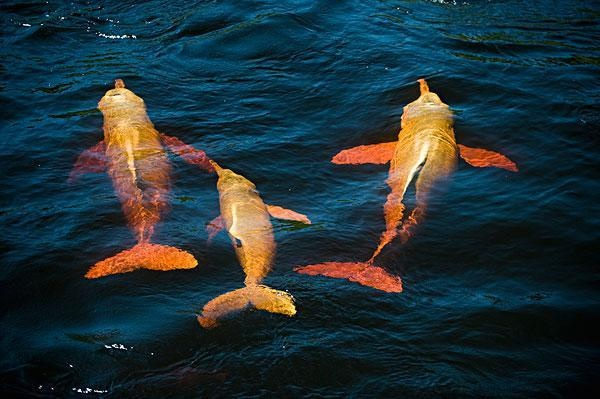fish: (292, 76, 520, 296), (68, 77, 215, 274), (202, 156, 309, 323)
